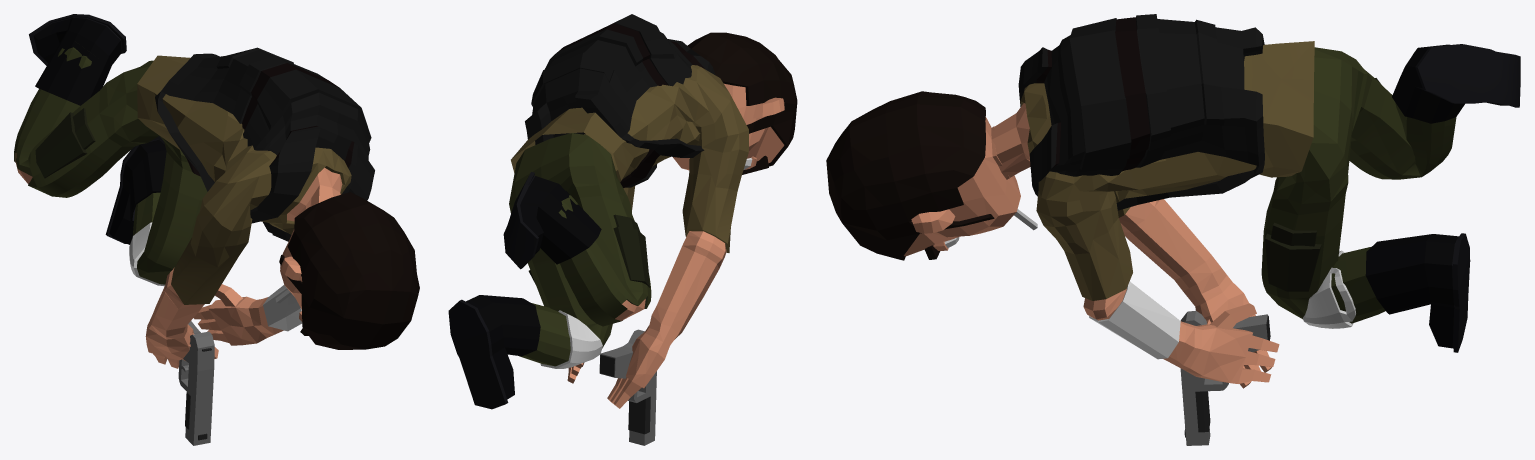
The model's file is frame_0007.obj.
The picture shows the model from 3 angles, left to right: view 1: azimuth 30°, elevation 25°; view 2: azimuth 150°, elevation 25°; view 3: azimuth 270°, elevation 25°; orthographic projection. The views are drawn at different scales.
Visible parts, largest first — view 1: Body, Gun; view 2: Body, Gun; view 3: Body, Gun.
Boxes of the visible parts, x1,y1,x2,y2 form: Body: (14,14,419,368); Gun: (178,321,214,445); Body: (448,14,797,409); Gun: (599,329,656,445); Body: (826,14,1520,388); Gun: (1180,310,1270,445).
Bounding box in the file's own units: 1.41 × 2.42 × 3.39.
